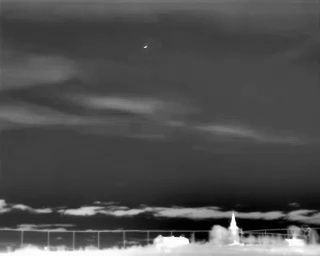AIRPLANE: (142, 43, 149, 50)
